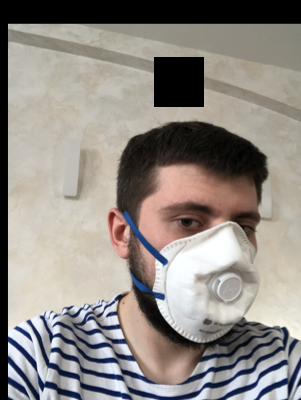with_mask: (149, 184, 260, 347)
